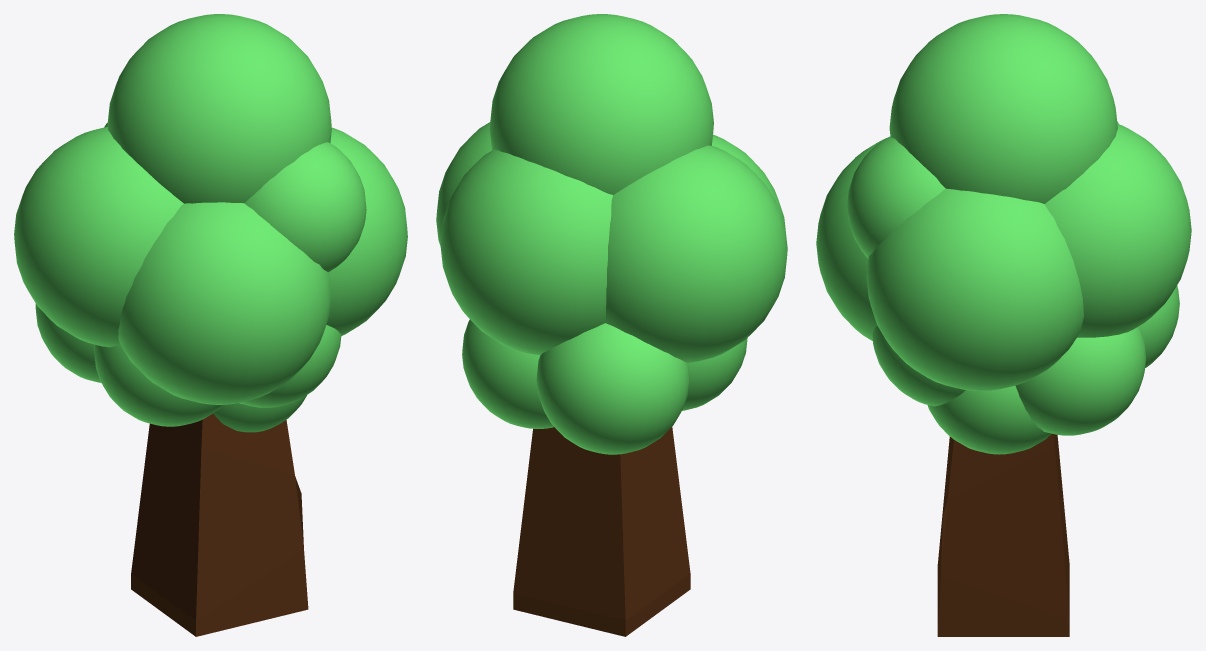
Rendered from derewo.glb.
3 renders of one model, left to right at view 1: azimuth 30°, elevation 25°; view 2: azimuth 150°, elevation 25°; view 3: azimuth 270°, elevation 25°, orthographic.
Visible parts, largest first — view 1: Sphere.004, Cube, Sphere, Sphere.003, Sphere.010, Sphere.002, Sphere.006, Sphere.005, Sphere.007, Sphere.009; view 2: Sphere.003, Sphere, Cube, Sphere.001, Sphere.007, Sphere.008, Sphere.006, Sphere.002, Sphere.004; view 3: Sphere.002, Sphere, Cube, Sphere.001, Sphere.008, Sphere.010, Sphere.004, Sphere.009, Sphere.005, Sphere.007.
Part boxes in pixels (x1,y1,x2,y2): Sphere.004: [118, 202, 331, 404]; Cube: [131, 413, 308, 636]; Sphere: [107, 14, 331, 203]; Sphere.003: [14, 127, 183, 347]; Sphere.010: [244, 142, 366, 272]; Sphere.002: [326, 127, 407, 335]; Sphere.006: [94, 344, 222, 426]; Sphere.005: [239, 325, 341, 407]; Sphere.007: [35, 303, 101, 382]; Sphere.009: [213, 395, 306, 432]; Sphere.003: [605, 145, 787, 363]; Sphere: [489, 14, 713, 194]; Cube: [513, 427, 690, 636]; Sphere.001: [440, 149, 612, 354]; Sphere.007: [536, 323, 689, 454]; Sphere.008: [462, 319, 553, 428]; Sphere.006: [682, 338, 747, 410]; Sphere.002: [436, 122, 492, 245]; Sphere.004: [712, 134, 785, 228]; Sphere.002: [866, 188, 1084, 391]; Sphere: [889, 14, 1117, 203]; Cube: [937, 433, 1069, 636]; Sphere.001: [1044, 124, 1191, 337]; Sphere.008: [1015, 326, 1146, 435]; Sphere.010: [847, 136, 945, 258]; Sphere.004: [816, 137, 887, 340]; Sphere.009: [927, 385, 1051, 454]; Sphere.005: [872, 325, 965, 406]; Sphere.007: [1139, 285, 1179, 367].
Size of the model in its own units: 6.52 by 10.45 by 6.08.
